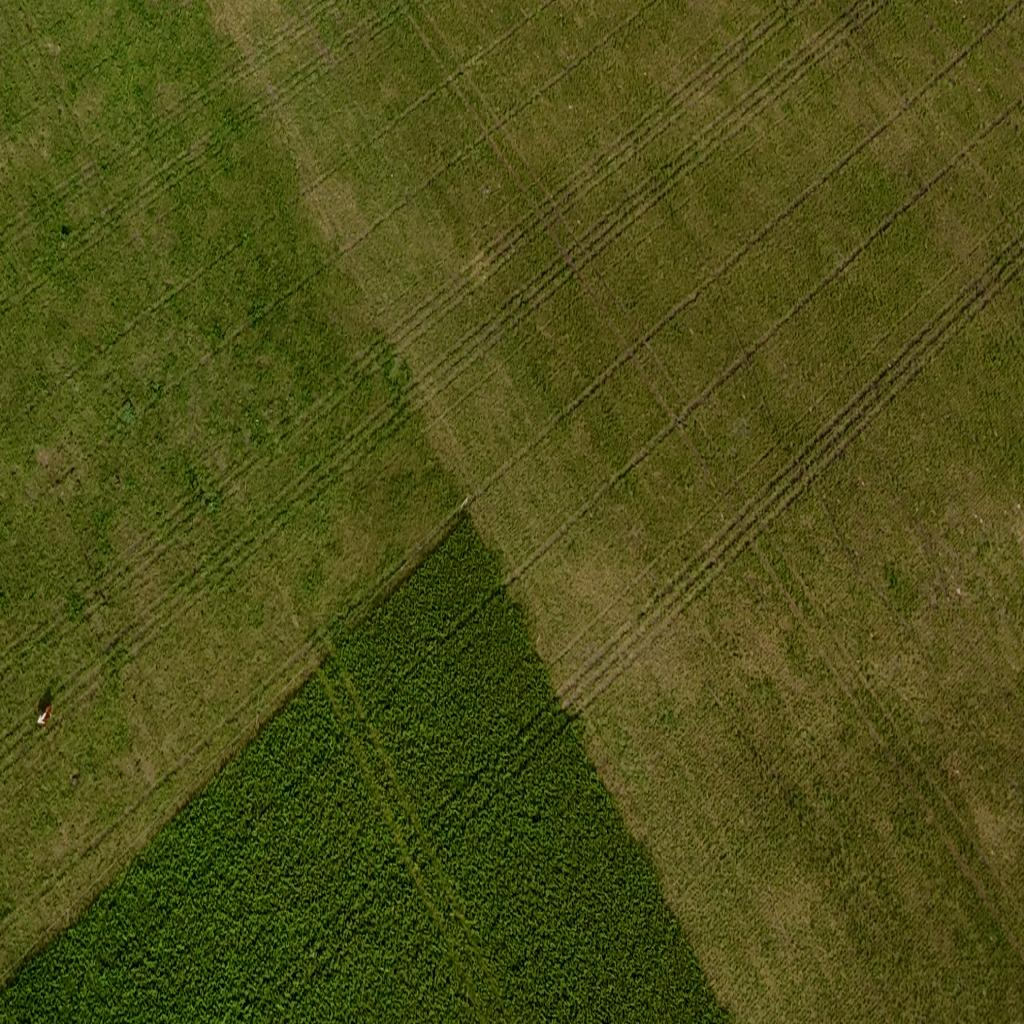cow: (37, 694, 56, 732)
